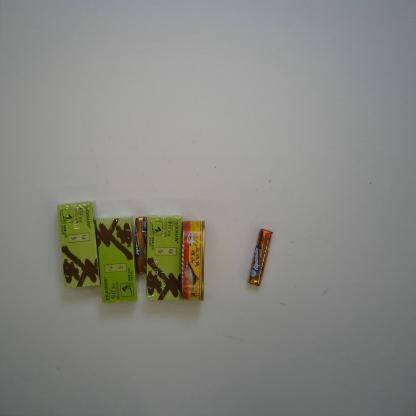Candy: (246, 228, 274, 287), (134, 216, 148, 274)
Canned Food: (180, 220, 206, 302)
Instant Drink: (56, 201, 101, 289), (95, 215, 138, 304), (145, 214, 184, 302)
